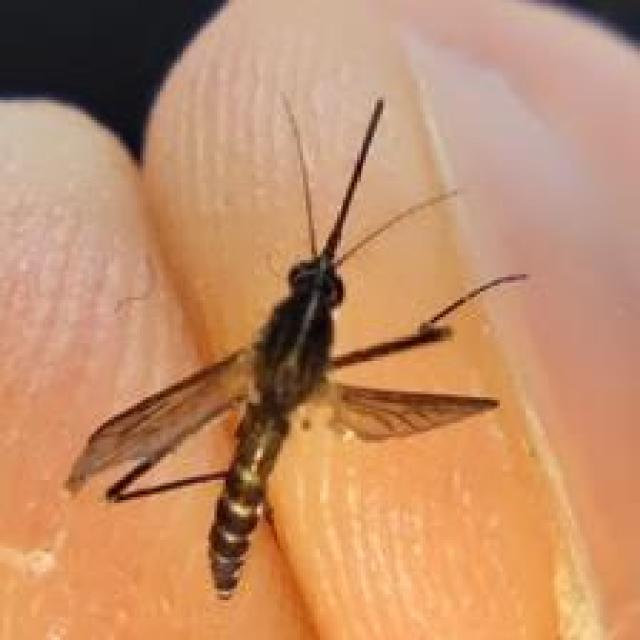Aedes albopictus: (64, 91, 530, 600)
